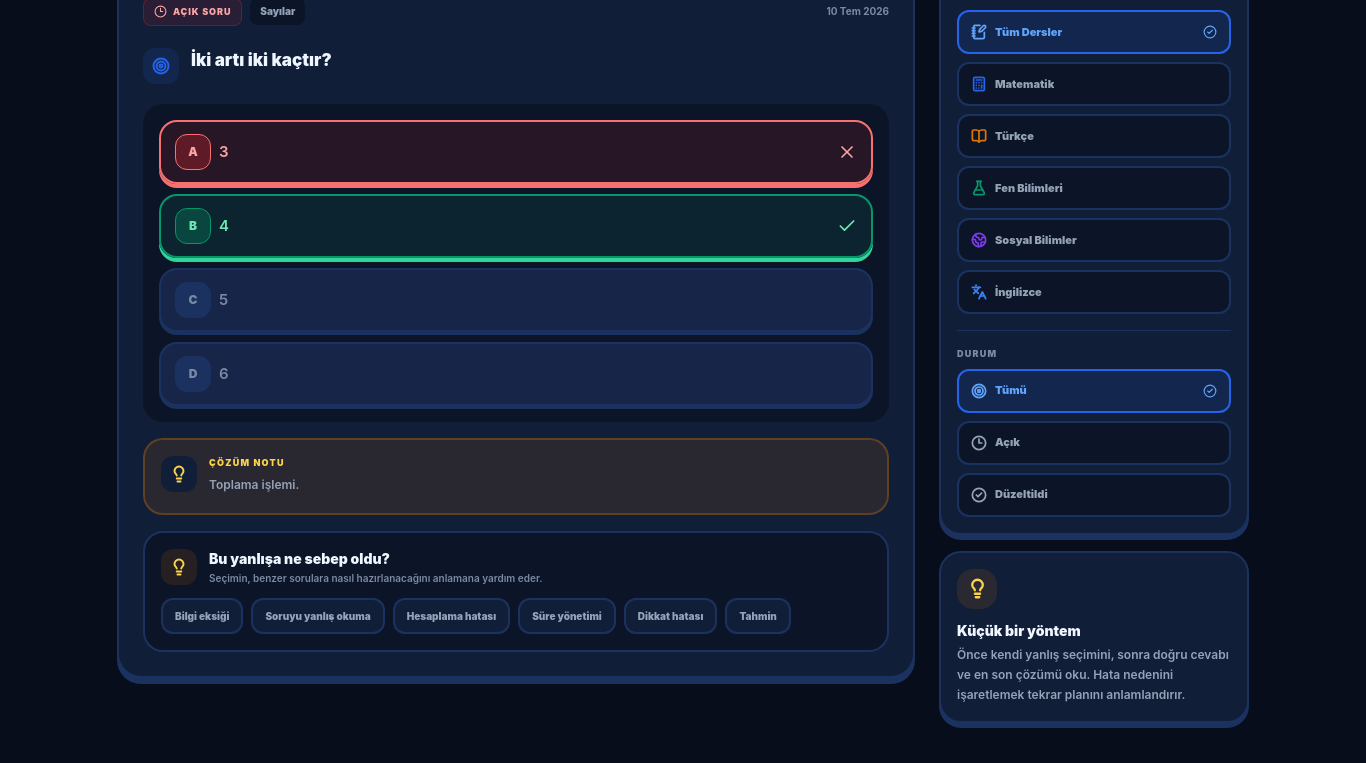
Test: YanlislarimClient › hata nedeni kaydedilemezse kart icinde yeniden deneme mesaji gosterilir
(page scrolled)
Expected: the text "İki artı iki kaçtır?" is shown, [191,46,332,74]
Click the button "Tahmin".
click(758, 616)  # box [725,598,791,634]
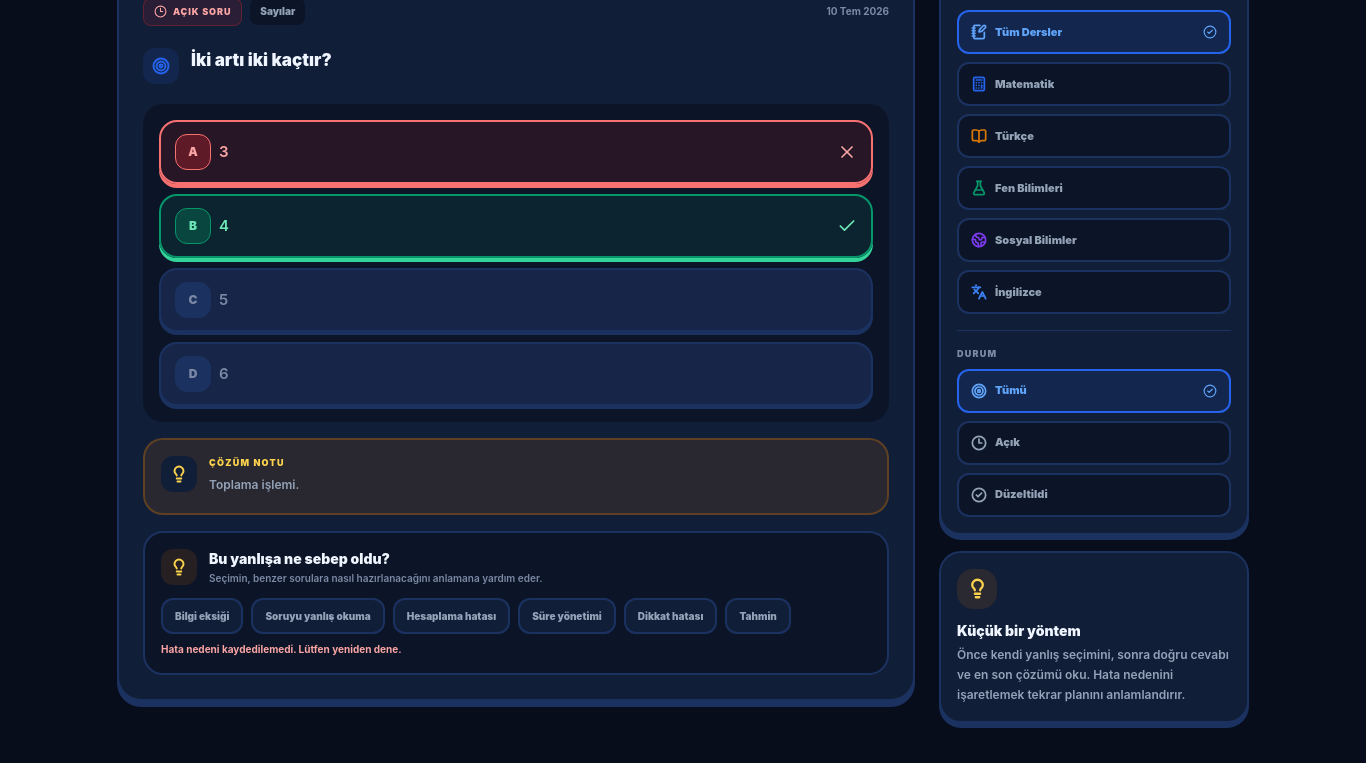
Now the message shows "kaydedilemedi", box [161,643,402,655]
